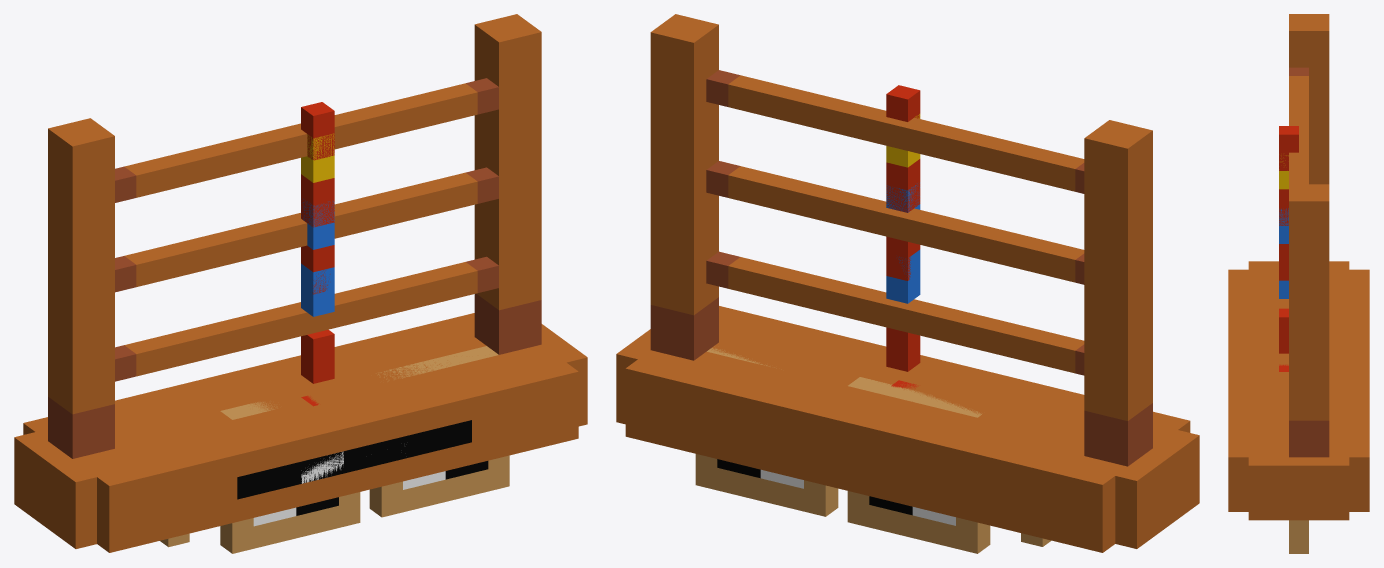
The model's file is abacus.glb.
The picture shows the model from 3 angles, left to right: view 1: azimuth 30°, elevation 25°; view 2: azimuth 150°, elevation 25°; view 3: azimuth 270°, elevation 25°; orthographic projection. The views are drawn at different scales.
Parts seen in each view (by area): view 1: base, in, glasses, mouth, r1 (4), layer-2, r1 (5), r1 (3), r1, r1 (7), r1 (2); view 2: base, in, glasses, r1 (4), layer-2, r1 (3), r1 (2), r1 (5); view 3: base, in, r1 (4), glasses, r1 (2), r1 (3), r1 (7), r1.
Boxes of the visible parts, x1,y1,x2,y2 form: base: [14, 78, 587, 552]; in: [48, 14, 541, 458]; glasses: [160, 346, 509, 553]; mouth: [237, 420, 471, 499]; r1 (4): [301, 102, 334, 383]; layer-2: [253, 461, 488, 526]; r1 (5): [301, 263, 334, 316]; r1 (3): [301, 174, 334, 227]; r1: [301, 133, 334, 182]; r1 (7): [301, 199, 334, 249]; r1 (2): [301, 245, 334, 406]; base: [616, 70, 1199, 552]; in: [650, 14, 1152, 466]; glasses: [695, 346, 1051, 553]; r1 (4): [886, 85, 920, 371]; layer-2: [717, 459, 955, 525]; r1 (3): [886, 159, 920, 212]; r1 (2): [886, 236, 920, 389]; r1 (5): [886, 249, 920, 303]; base: [1228, 67, 1369, 520]; in: [1289, 14, 1329, 457]; r1 (4): [1279, 126, 1298, 353]; glasses: [1289, 520, 1308, 553]; r1 (2): [1279, 244, 1288, 371]; r1 (3): [1279, 189, 1288, 225]; r1 (7): [1279, 208, 1288, 243]; r1: [1279, 155, 1288, 189].
Bounding box in the file's own units: 24 × 20 × 7.
14 materials, 14 textured.
